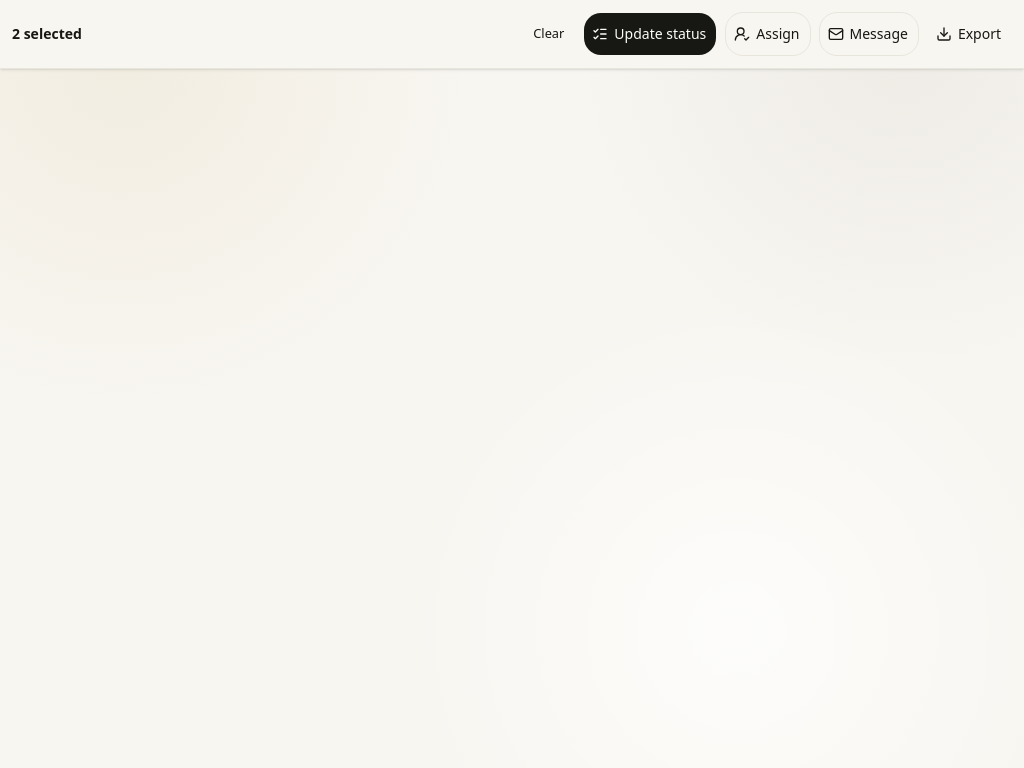
Test: bulk action dialogs › shows status updates directly and blocks an incompatible mixed selection
Click the button "Update status" at point(650, 34), box [583,12,717,56]
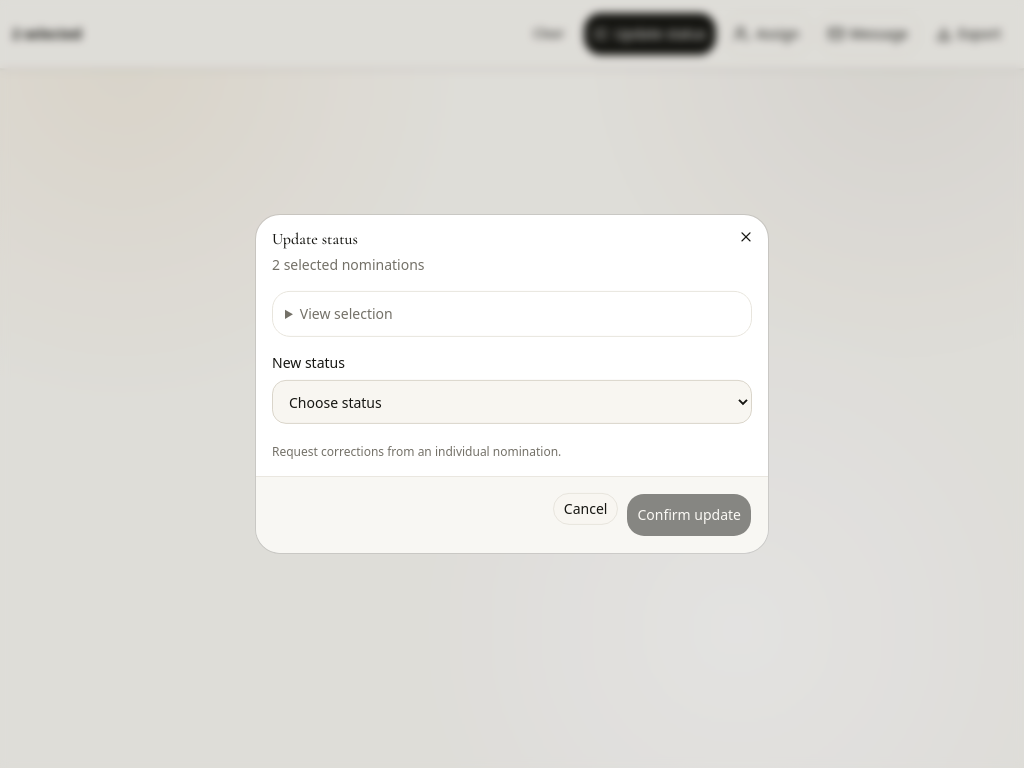
Select "Nomination approved" in the dropdown labelled "New status" at point(512, 402), box [272,380,752,424]
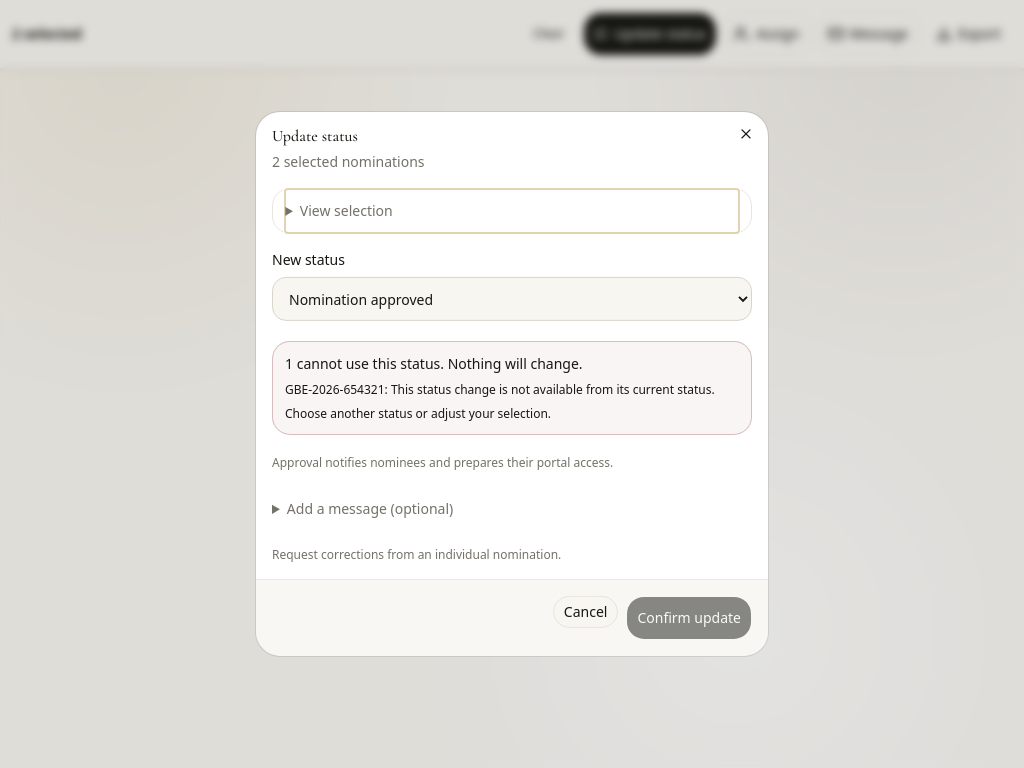
Now the button "Confirm update" is disabled, box [626,596,752,640]
Now the message shows "GBE-2026-654321", box [285,381,385,398]
